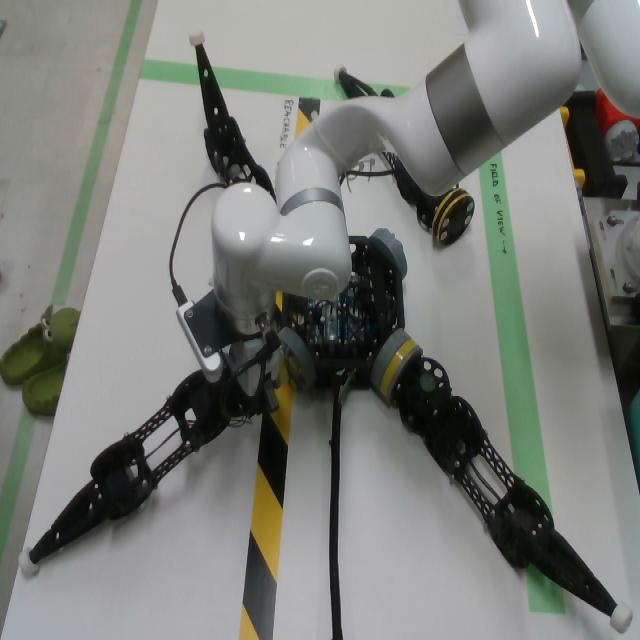body: (282, 236, 405, 391)
body_connector: (279, 327, 316, 393), (370, 329, 410, 388), (369, 228, 408, 280)
gripper: (223, 331, 281, 416)
leg: (380, 339, 635, 635), (19, 355, 256, 579), (189, 29, 277, 203), (381, 152, 476, 245), (334, 64, 395, 99)
leg_connector: (380, 340, 423, 399), (433, 189, 475, 247)
leg_marker: (420, 373, 436, 389)
